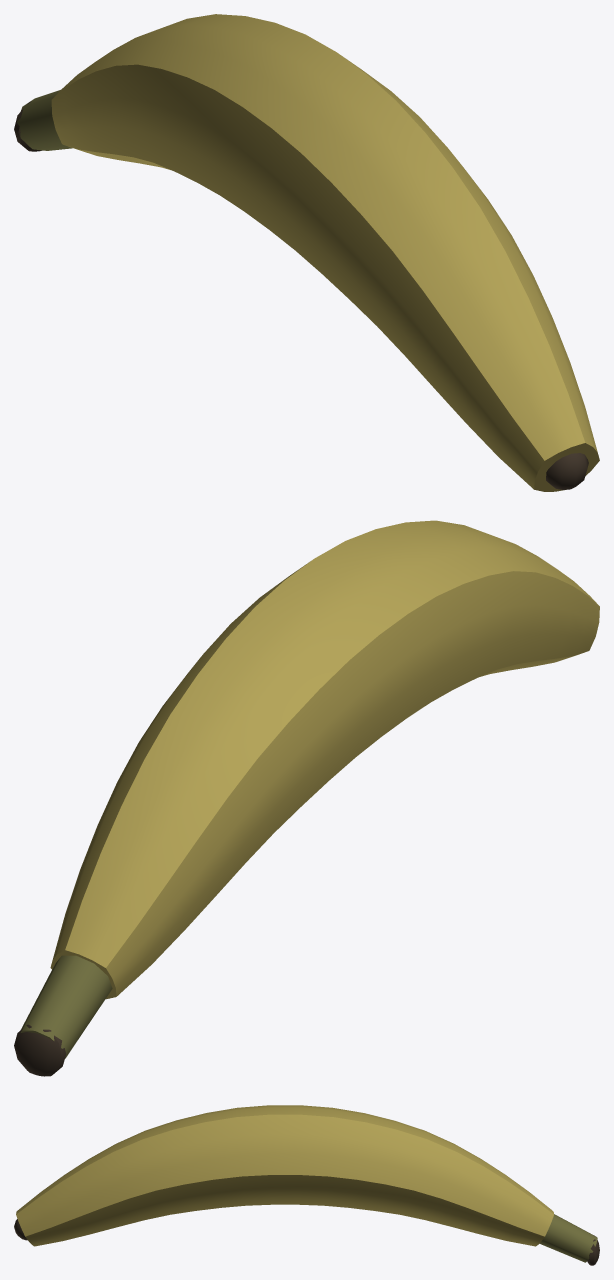
Rendered from w_pj_banana.glb.
3 renders of one model, top to bottom at view 1: azimuth 30°, elevation 25°; view 2: azimuth 150°, elevation 25°; view 3: azimuth 270°, elevation 25°, orthographic. The views are drawn at different scales.
Parts seen in each view (by area): view 1: banana_wzA, stalk_wzB, stalk_wzN; view 2: banana_wzA, stalk_wzB, stalk_wzN; view 3: banana_wzA, stalk_wzB, stalk_wzN.
Part boxes in pixels (x1=…): banana_wzA: x1=51, y1=14, x2=599, y2=491; stalk_wzB: x1=17, y1=90, x2=72, y2=150; stalk_wzN: x1=14, y1=101, x2=588, y2=489; banana_wzA: x1=50, y1=520, x2=599, y2=999; stalk_wzB: x1=20, y1=955, x2=112, y2=1058; stalk_wzN: x1=14, y1=1024, x2=65, y2=1076; banana_wzA: x1=16, y1=1105, x2=553, y2=1246; stalk_wzB: x1=539, y1=1214, x2=597, y2=1262; stalk_wzN: x1=14, y1=1219, x2=599, y2=1265.
Bounding box in the file's own units: 0.0381 × 0.0665 × 0.2255.
